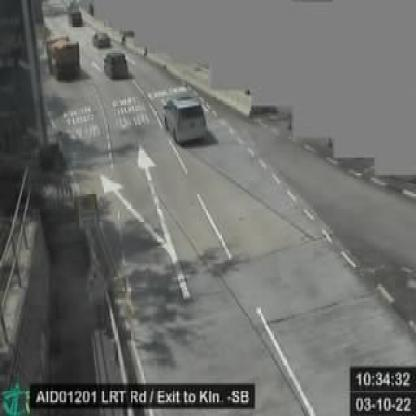Car: (162, 95, 208, 142), (104, 51, 127, 76), (65, 5, 86, 23), (91, 30, 111, 45)
Truck: (43, 35, 81, 80)
